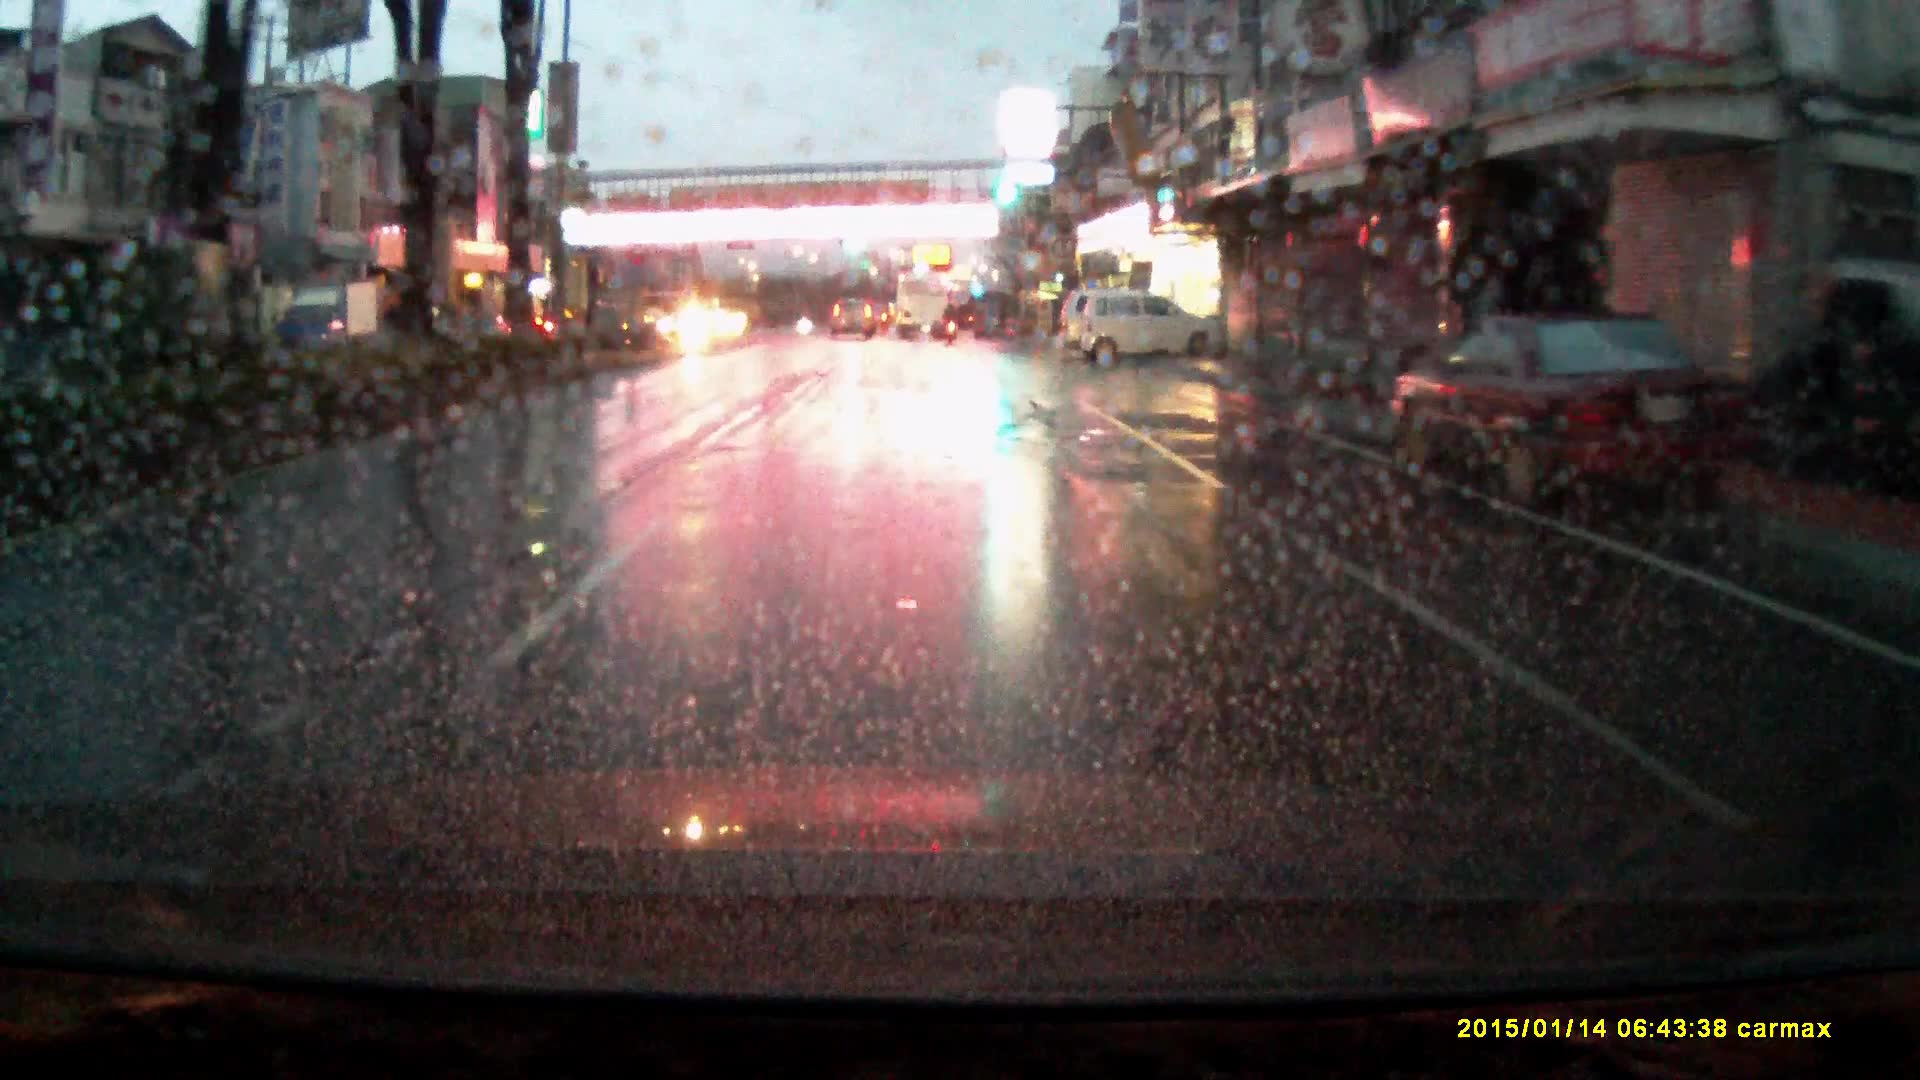rider: (942, 302, 962, 348)
vehicle: (1391, 319, 1753, 524), (1076, 294, 1230, 375), (275, 286, 377, 365), (1059, 295, 1125, 353), (897, 280, 947, 345), (832, 298, 878, 341)
